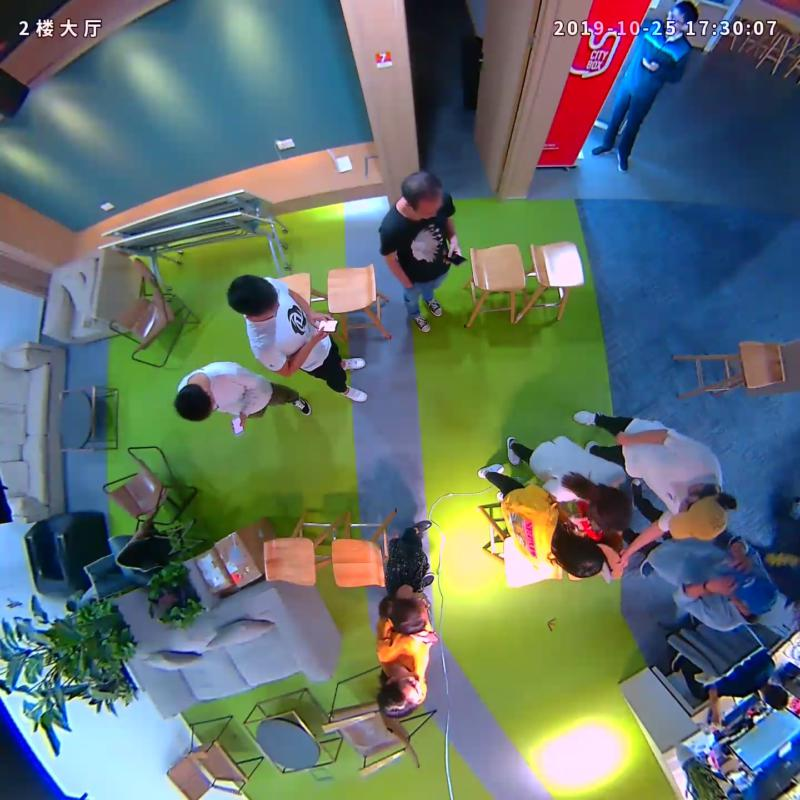head: (668, 490, 727, 545), (227, 274, 279, 324), (724, 568, 776, 617), (587, 481, 633, 535), (558, 533, 605, 579), (400, 170, 444, 219), (379, 670, 422, 720), (386, 595, 431, 636), (173, 381, 215, 422), (665, 1, 699, 31)
